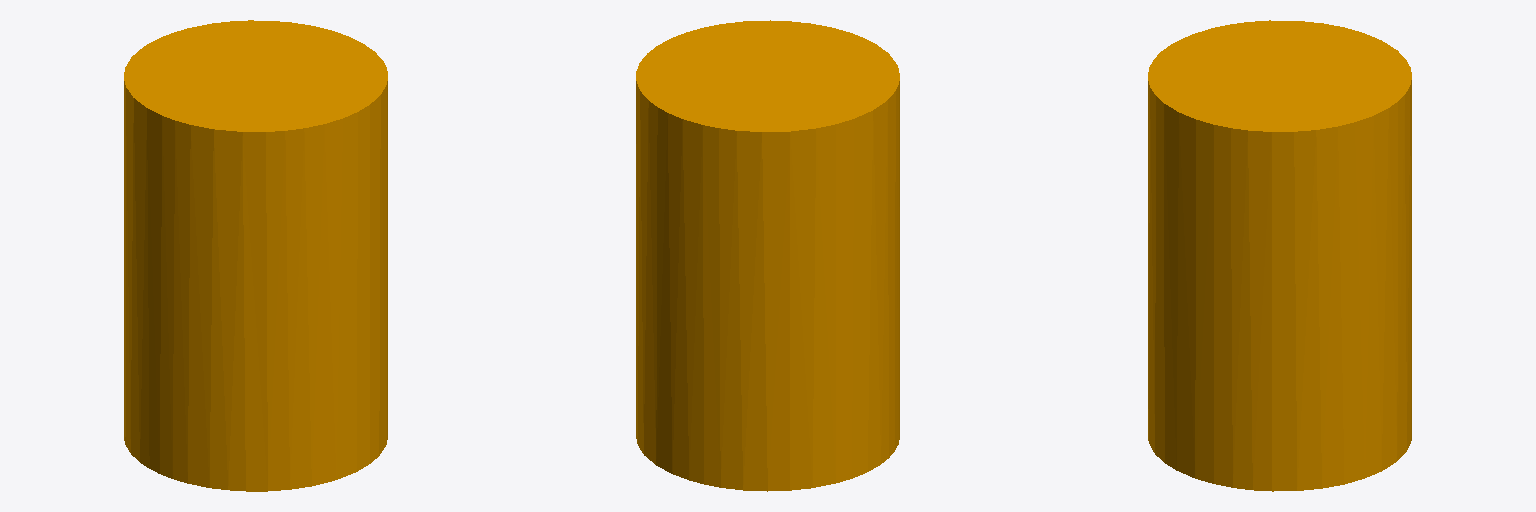
robot.urdf — cylinder:
<?xml version="1.0"?>
<robot name="cylinder">
  <material name="Cyan">
    <color rgba="0 1.0 1.0 1.0"/>
  </material>
  
 <link name="cylinder">
    <contact>
      <friction_anchor/>
      <lateral_friction value="0.5"/>
      <rolling_friction value="30.0"/>
      <spinning_friction value="30.0"/>
    </contact>

    <inertial>
      <origin xyz="0 0 0" rpy="0 0 0"/>
      <mass value="0.15"/>
      <inertia ixx=" 0"  ixy="0"  ixz="0" iyy=" 0" iyz="0" izz="0" />
    </inertial>

    <visual>
      <origin xyz="-0.025 -0.025 -0.03750" rpy="0 0 0" />
        <geometry>
            <mesh filename="package://bopt_gmm/objects/cylinder/cylinder.obj" scale="1.0 1.0 1.0"/>
        </geometry>
      <!-- <origin xyz="0 0 0" rpy="0 0 0"/>
        <geometry>
          <cylinder radius="0.025" length="0.075"/>
        </geometry> -->
    </visual>

    <collision>
      <origin xyz="0 0 0" rpy="0 0 0"/>
      <geometry>
       <cylinder radius="0.025" length="0.075"/>
      </geometry>
    </collision>
  </link>
</robot>

--- Facts derived from the render (not from the file) ---
The picture shows the robot from 3 angles, left to right: view 1: azimuth 30°, elevation 25°; view 2: azimuth 150°, elevation 25°; view 3: azimuth 270°, elevation 25°; orthographic projection.
Robot: cylinder — 1 links, 0 joints (none); root link cylinder; default pose: every joint at zero.
Visible links, largest first — view 1: cylinder; view 2: cylinder; view 3: cylinder.
Link boxes in pixels (x1=…): cylinder: x1=124, y1=20, x2=387, y2=491; cylinder: x1=636, y1=20, x2=899, y2=491; cylinder: x1=1148, y1=20, x2=1411, y2=491.
Bounding box of the posed robot: 0.05 × 0.0501 × 0.075 m (x, y, z).
1 mesh visuals loaded from 1 distinct referenced files (1 OBJ).